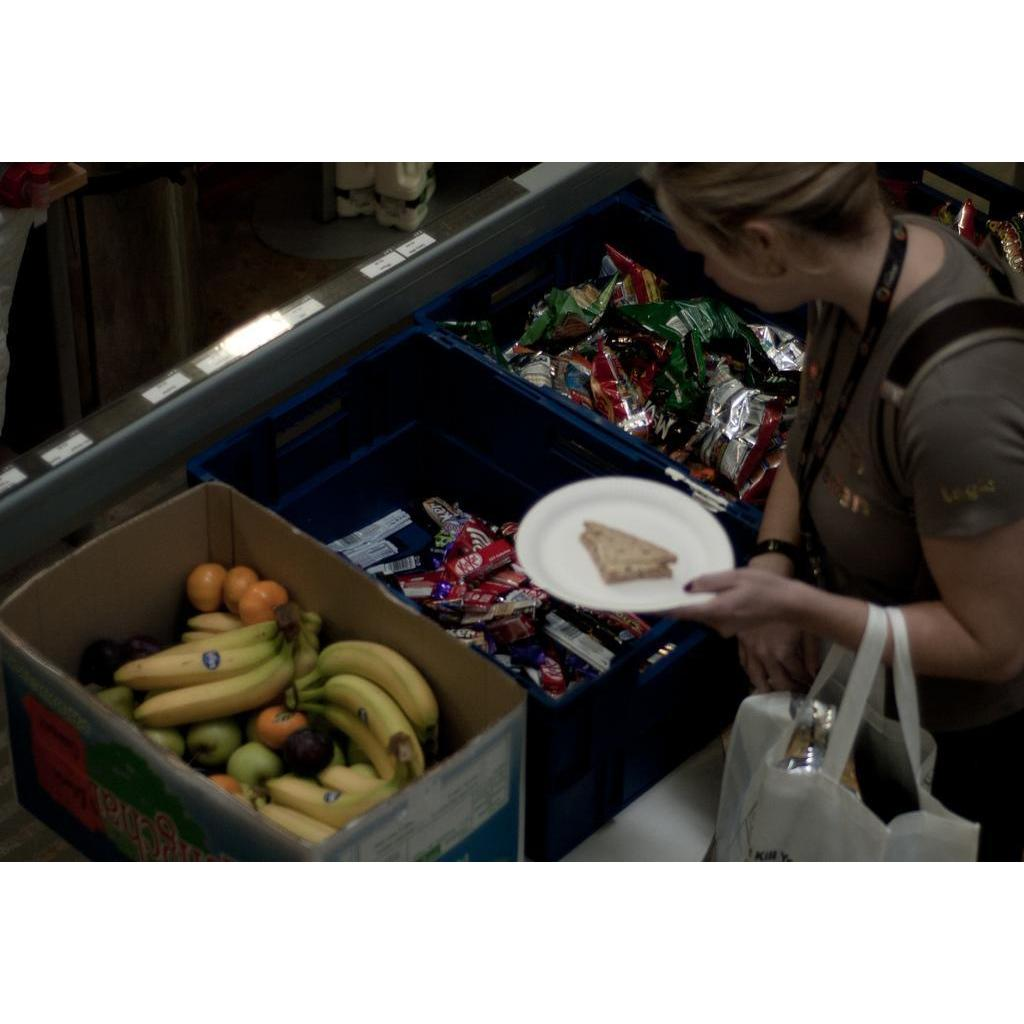banana: (317, 641, 440, 741), (133, 655, 295, 730)
